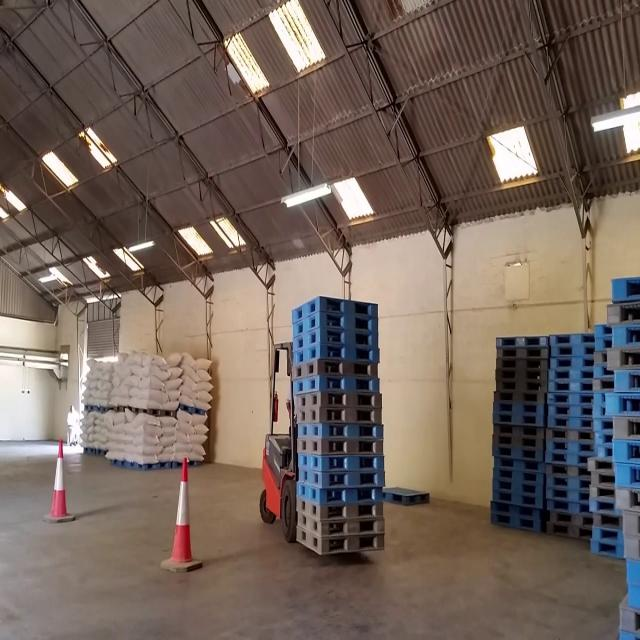Chariot elevateur: (254, 332, 312, 549)
